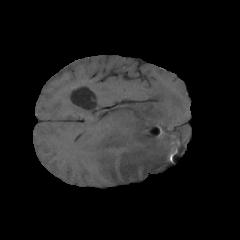glioma: (83, 83, 190, 183)
